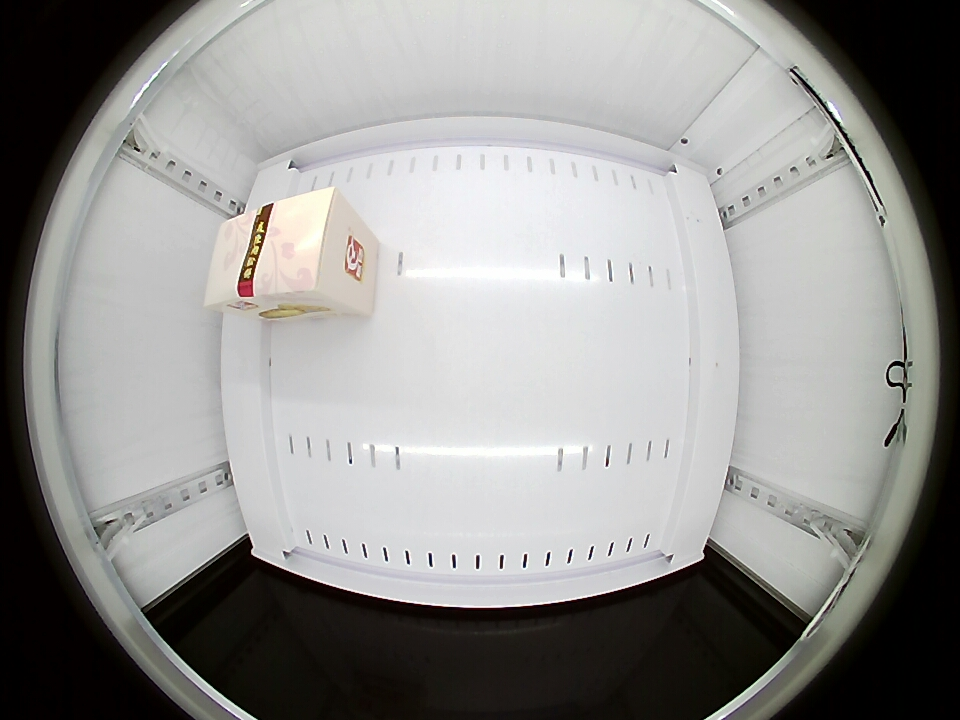rousongbing: (205, 186, 361, 315)
